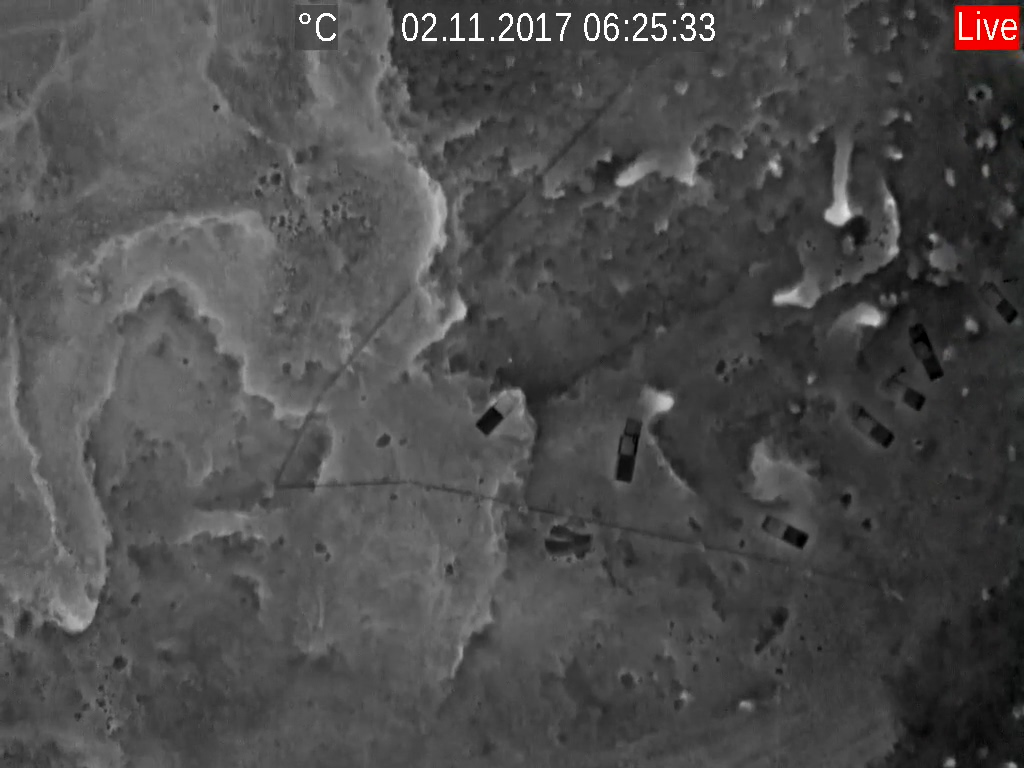warren: (613, 139, 699, 193), (818, 140, 858, 224), (764, 273, 815, 316), (625, 379, 676, 421), (849, 296, 886, 332), (879, 136, 907, 167)
